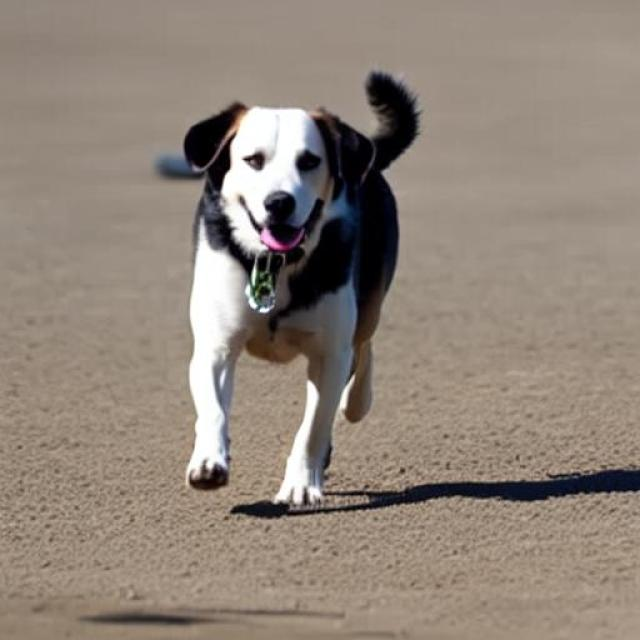Dog: (185, 70, 417, 504)
